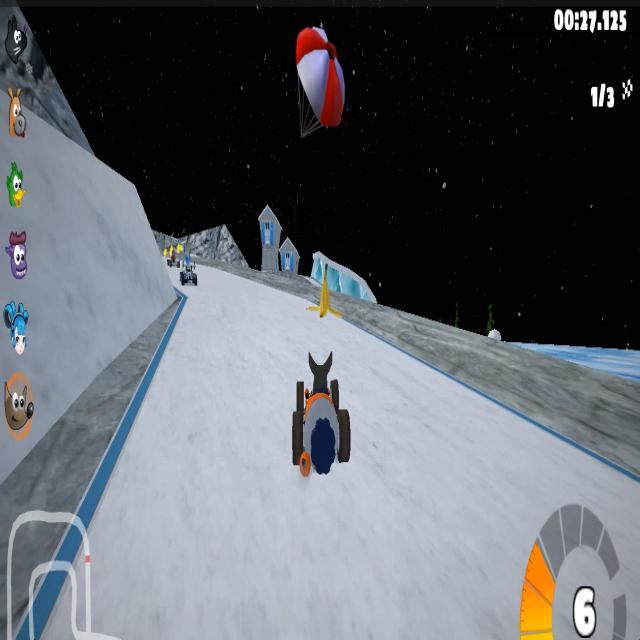player_kart: (289, 336, 356, 483)
track: (156, 377, 288, 640), (295, 493, 516, 637), (356, 391, 502, 477), (118, 468, 156, 638), (186, 305, 290, 366), (507, 421, 557, 502), (362, 334, 402, 385), (209, 276, 264, 304)
